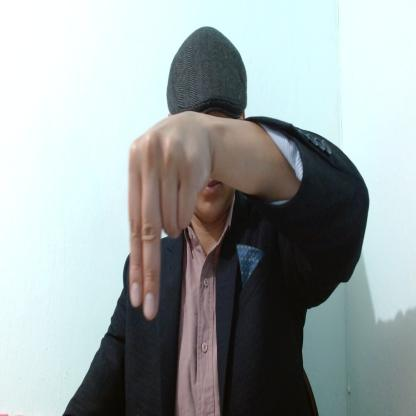N: (127, 108, 216, 320)
